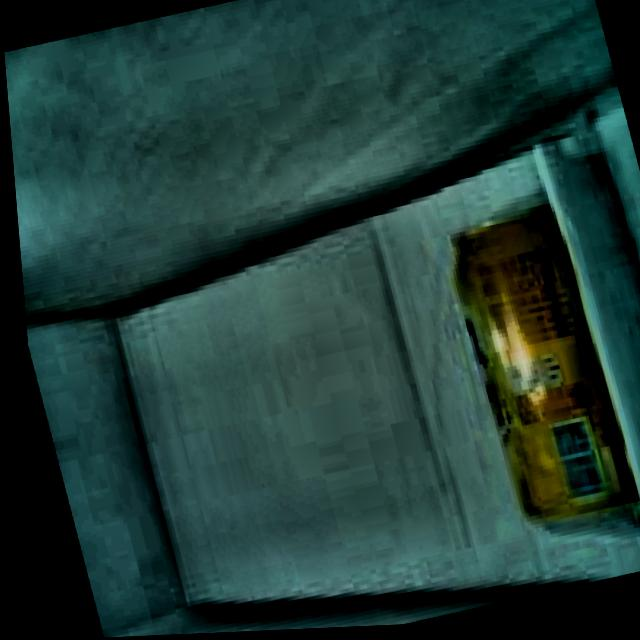Cans: (416, 182, 638, 561)
